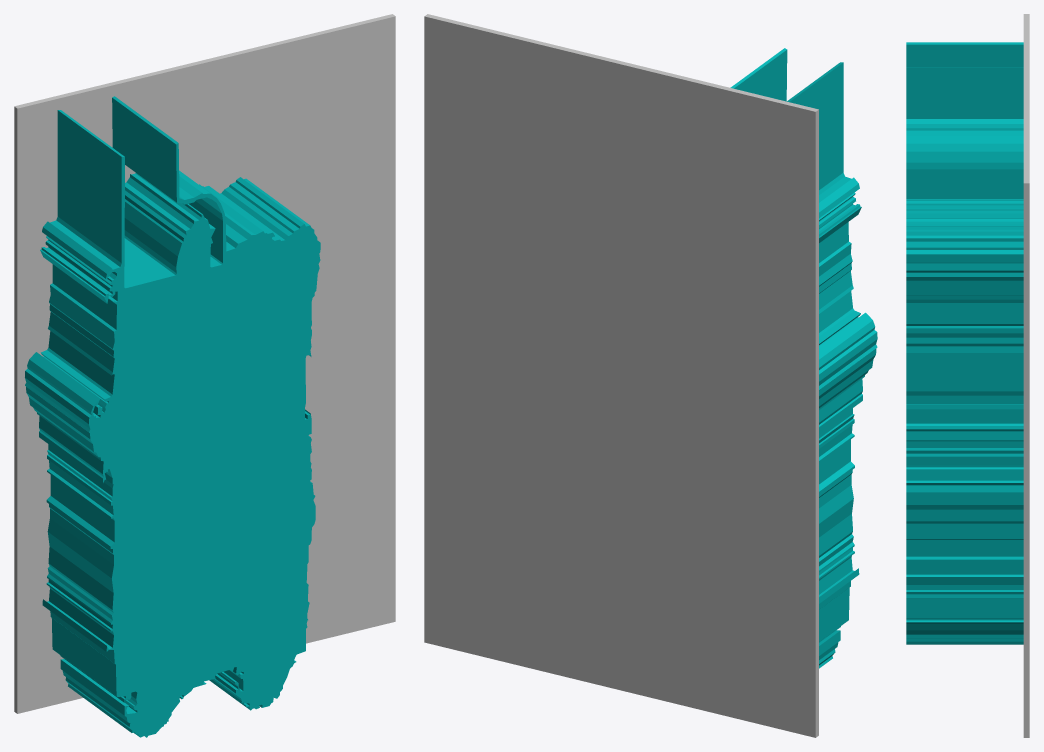
3 renders of one model, left to right at view 1: azimuth 30°, elevation 25°; view 2: azimuth 150°, elevation 25°; view 3: azimuth 270°, elevation 25°, orthographic. The views are drawn at different scales.
Parts seen in each view (by area): view 1: world; view 2: world; view 3: world.
Part boxes in pixels (box(x1,y1,x2,y2)): world: box(14, 14, 395, 737); world: box(424, 14, 877, 737); world: box(906, 14, 1029, 737).
Size of the model in its own units: 10.23 by 15.64 by 3.15.
